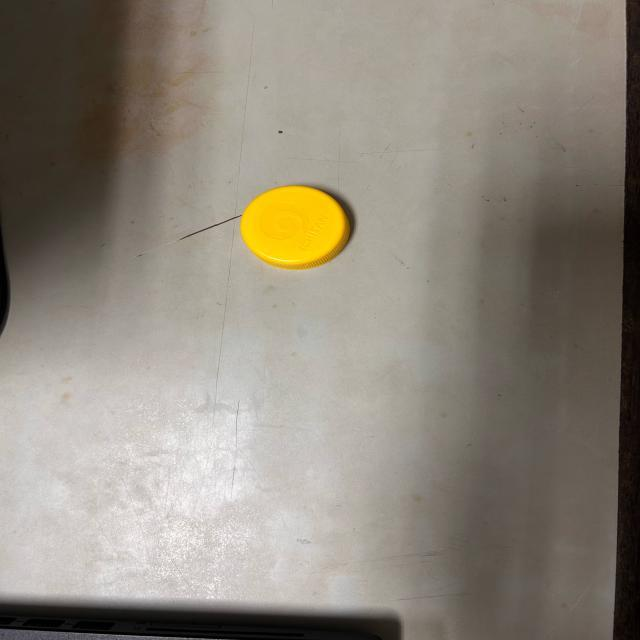puck: (238, 182, 351, 271)
